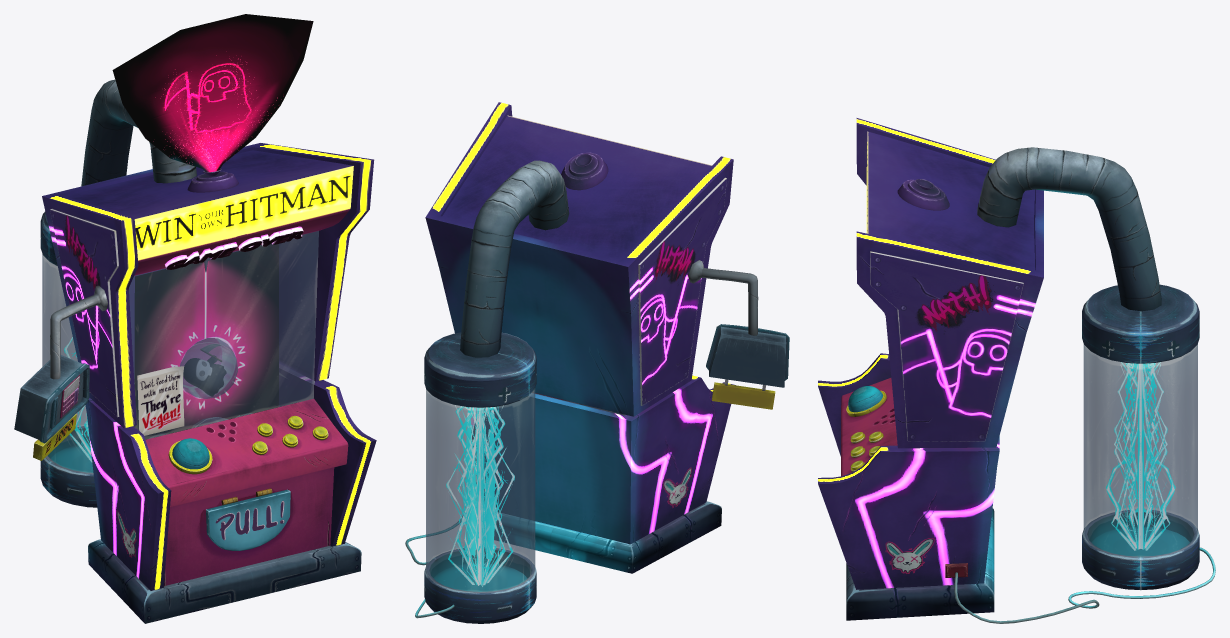
The picture shows the model from 3 angles, left to right: view 1: azimuth 30°, elevation 25°; view 2: azimuth 150°, elevation 25°; view 3: azimuth 270°, elevation 25°; orthographic projection. The views are drawn at different scales.
Visible parts, largest first — view 1: PUSHDuplicatedLink.001, PUSHDuplicatedLink.009, PUSHDuplicatedLink.004, Plane.003, PUSHDuplicatedLink.005, PUSHDuplicatedLink.006, PUSHDuplicatedLink.003; view 2: PUSHDuplicatedLink.001, PUSHDuplicatedLink.014; view 3: PUSHDuplicatedLink.001, PUSHDuplicatedLink.014.
Part boxes in pixels (x1,y1,x2,y2): PUSHDuplicatedLink.001: (14,14,376,623); PUSHDuplicatedLink.009: (129,231,318,439); PUSHDuplicatedLink.004: (134,243,278,439); Plane.003: (137,366,184,435); PUSHDuplicatedLink.005: (180,338,237,398); PUSHDuplicatedLink.006: (183,344,226,396); PUSHDuplicatedLink.003: (215,501,284,540); PUSHDuplicatedLink.001: (405,102,789,623); PUSHDuplicatedLink.014: (446,405,514,586); PUSHDuplicatedLink.001: (818,118,1215,623); PUSHDuplicatedLink.014: (1106,362,1175,550).
Size of the model in its own units: 14.99 by 23.61 by 15.92.
7 materials, 7 textured.
